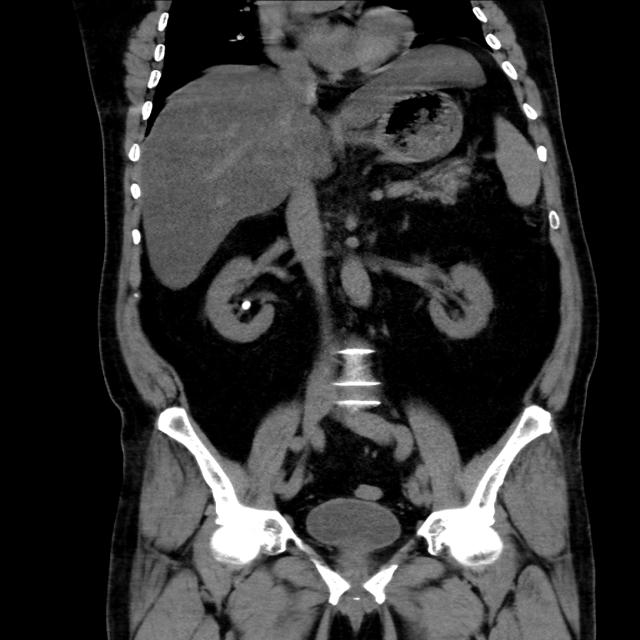kidneystone: (241, 300, 252, 310)
